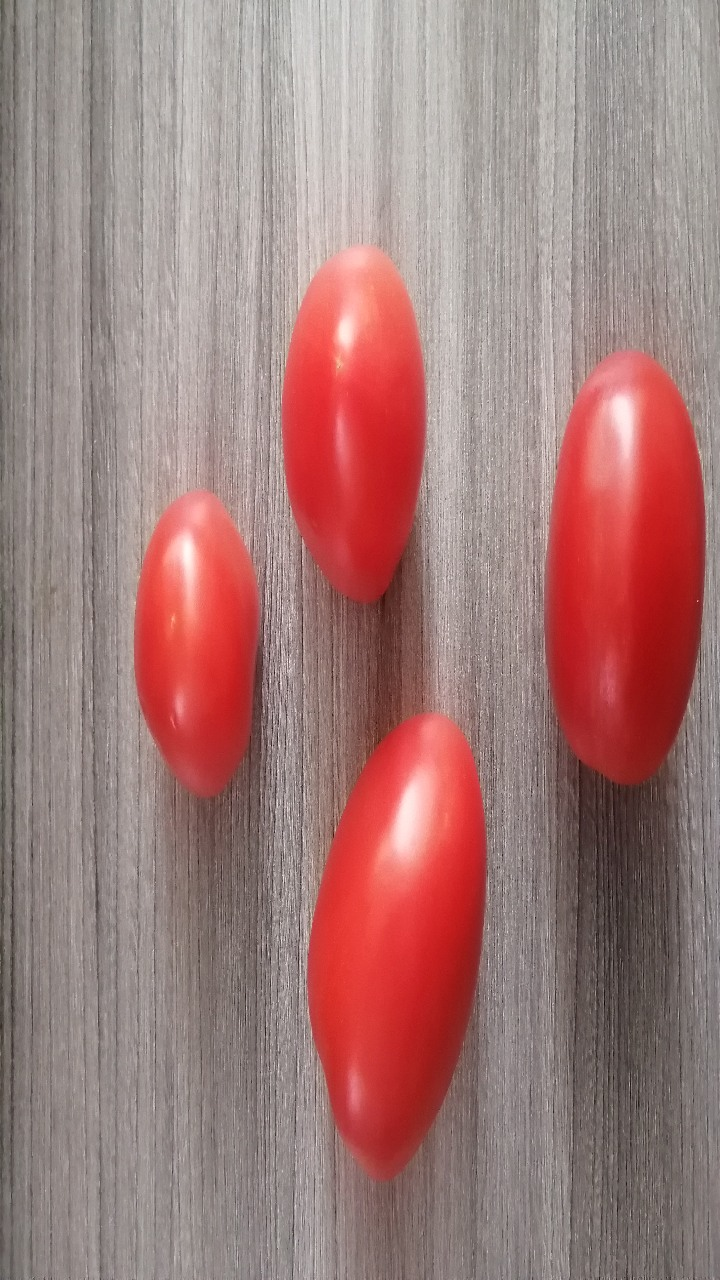tomateRojo: (278, 697, 506, 1215), (548, 326, 720, 819), (95, 482, 275, 817), (286, 231, 441, 606)
